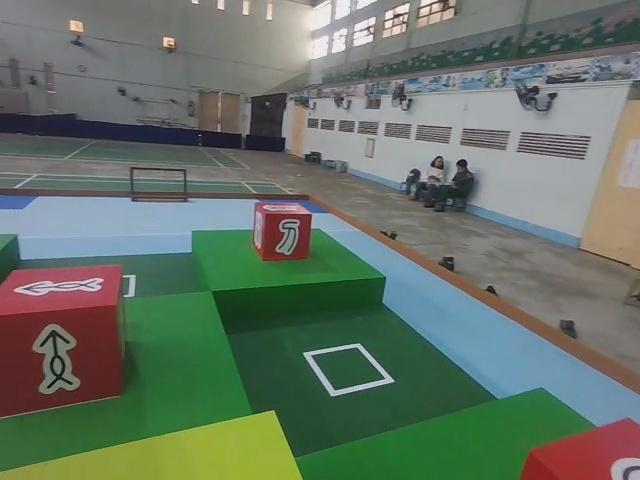R2 Fake: (251, 203, 312, 261)
R2 Real: (0, 264, 127, 417)
